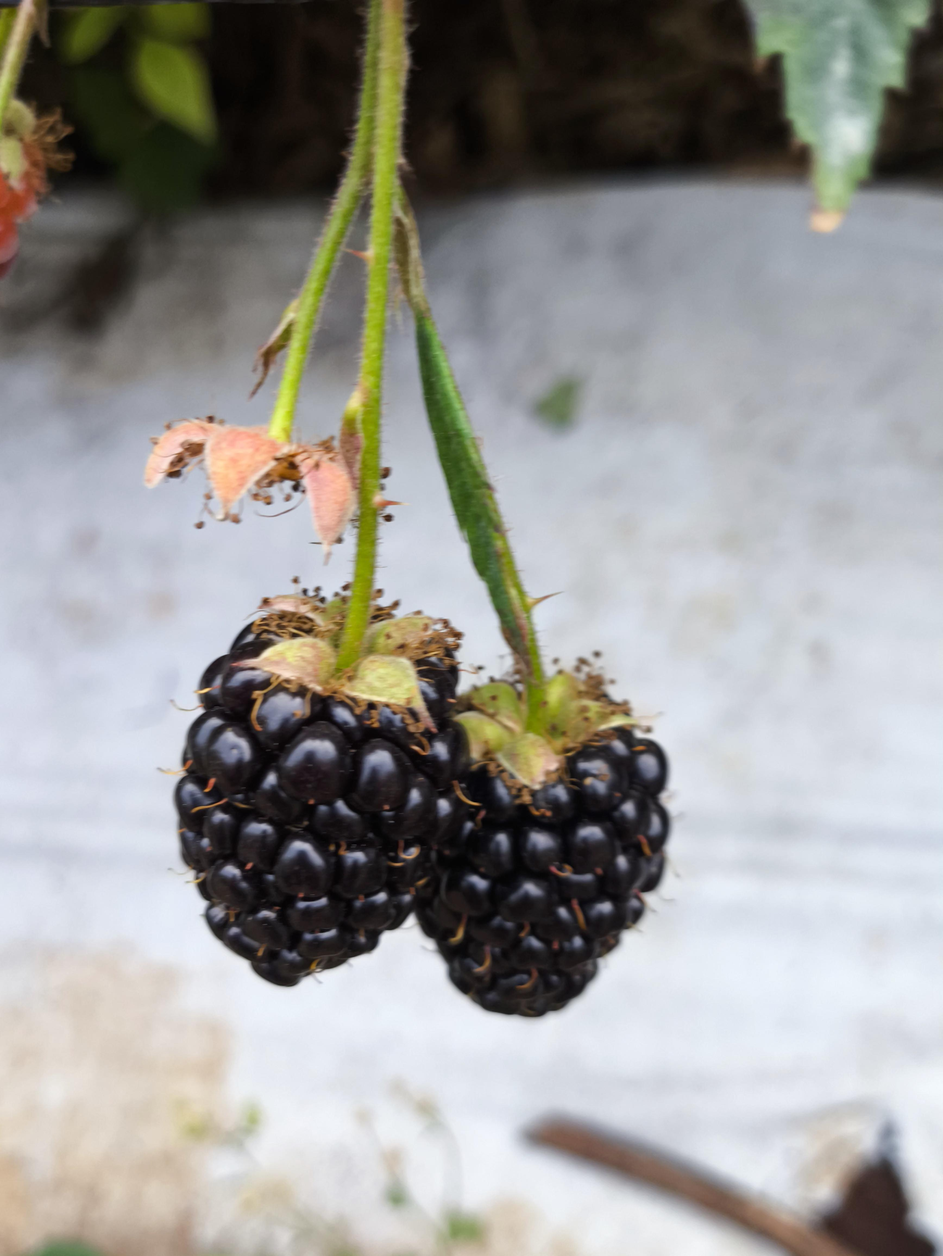maduro: (177, 614, 450, 983), (419, 659, 669, 1016)
